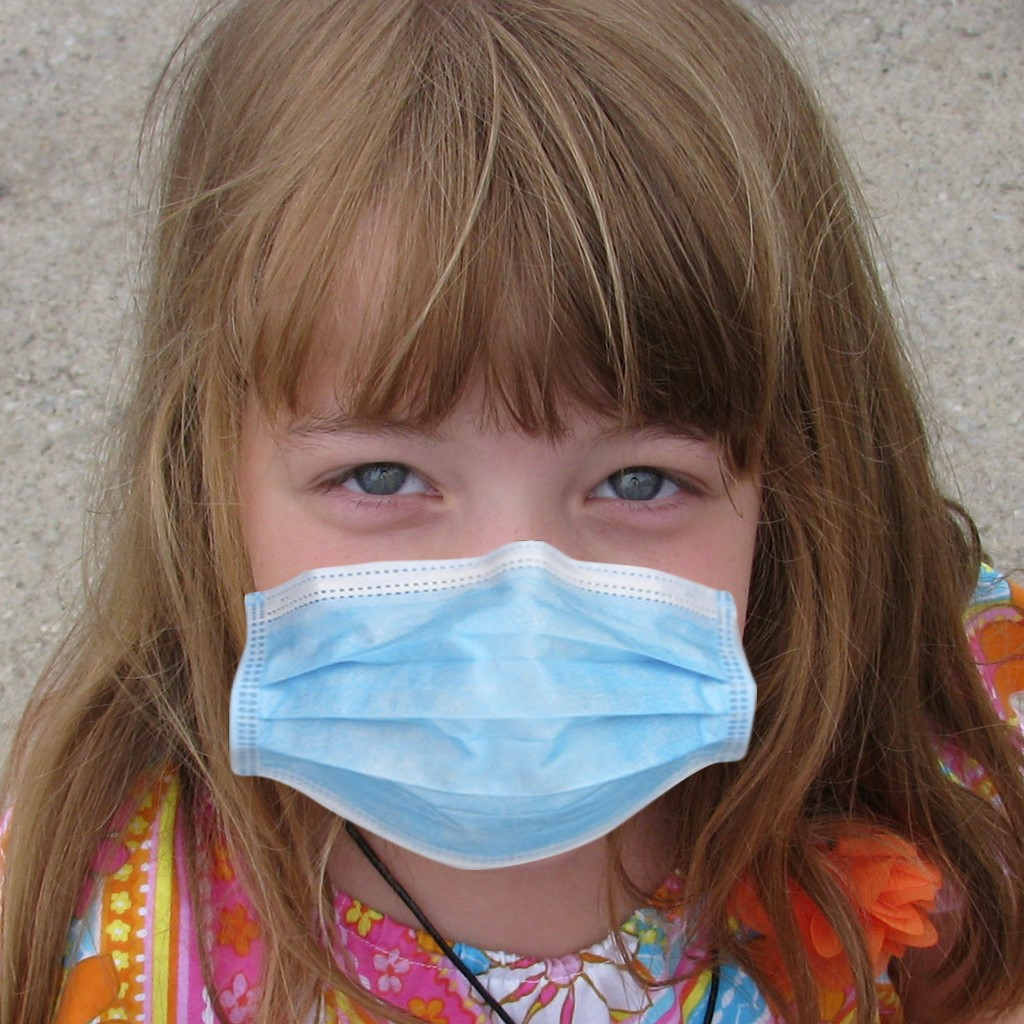con_mascara: (163, 93, 794, 928)
